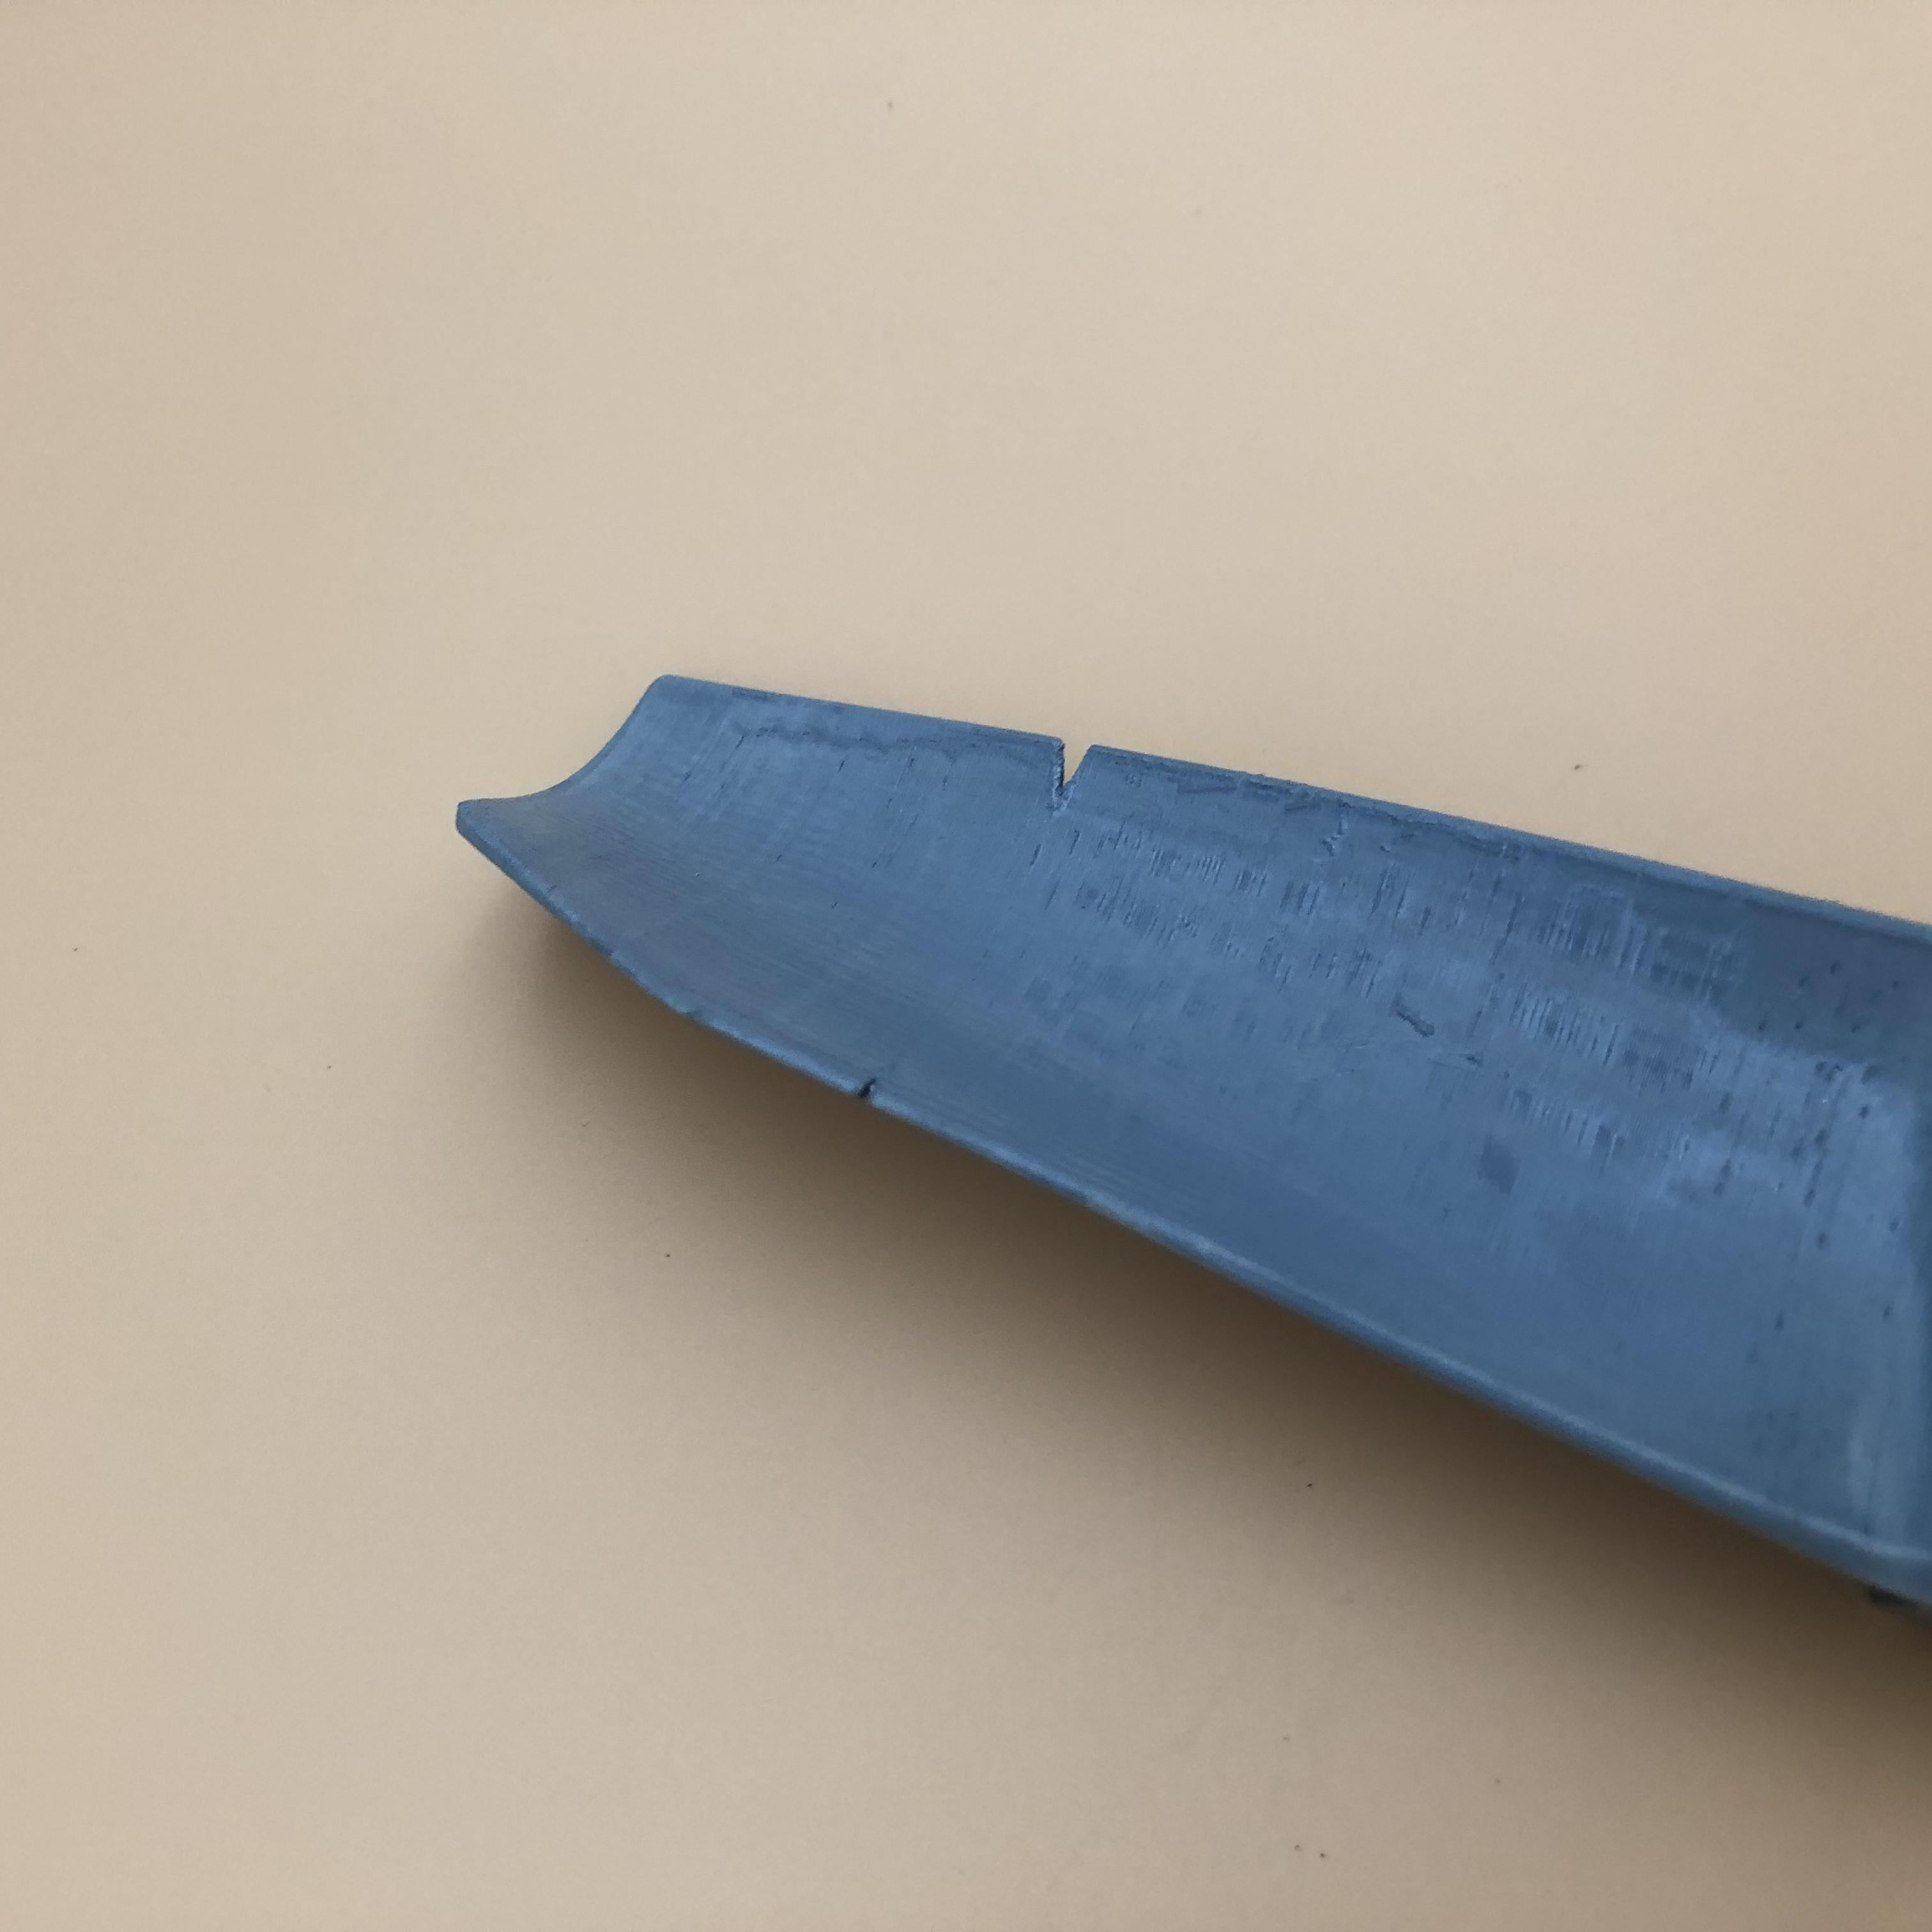groove: (1042, 734, 1115, 810), (846, 1067, 895, 1108)
